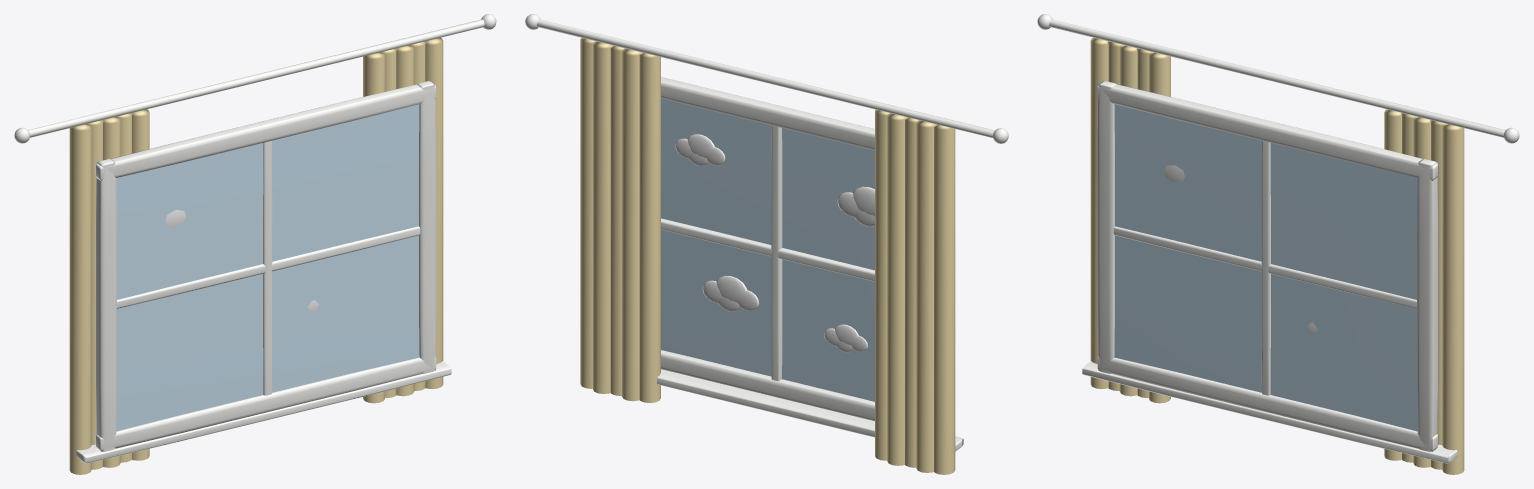
The model's file is TanksWindow.glb.
The picture shows the model from 3 angles, left to right: view 1: azimuth 30°, elevation 25°; view 2: azimuth 150°, elevation 25°; view 3: azimuth 330°, elevation 25°; orthographic projection.
Visible parts, largest first — view 1: Glass, Frame, Curtain; view 2: Curtain, Glass, Frame, Cloud; view 3: Glass, Frame, Curtain.
Part boxes in pixels (box(x1,y1,x2,y2)): Glass: box(116, 104, 419, 431); Frame: box(14, 14, 496, 463); Curtain: box(69, 37, 443, 474); Curtain: box(580, 38, 955, 474); Glass: box(661, 98, 874, 401); Frame: box(525, 14, 1008, 451); Cloud: box(675, 134, 874, 352); Glass: box(1114, 104, 1417, 431); Frame: box(1037, 14, 1519, 463); Curtain: box(1090, 37, 1464, 474).
Bounding box in the file's own units: 62.8 × 44.4 × 4.75.
